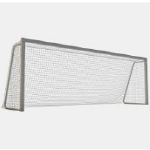goals: (1, 36, 150, 115)
